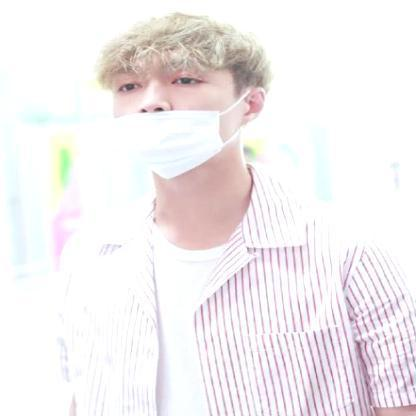mask_weared_incorrect: (106, 69, 237, 181)
